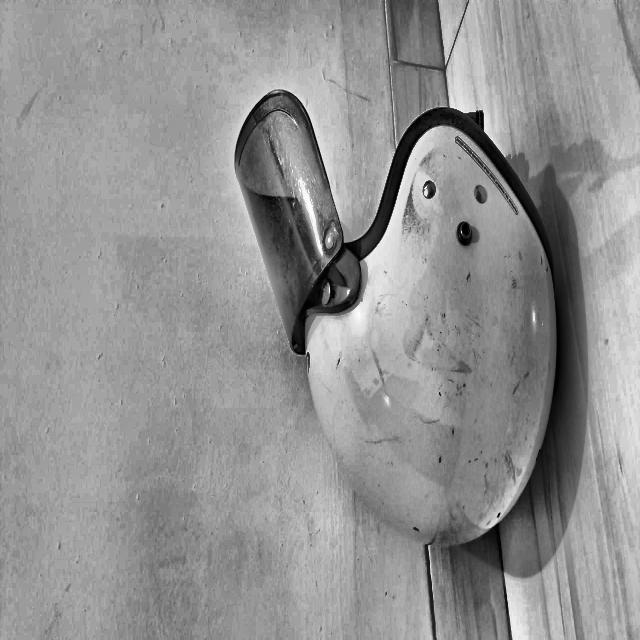Helmet: (239, 67, 576, 550)
